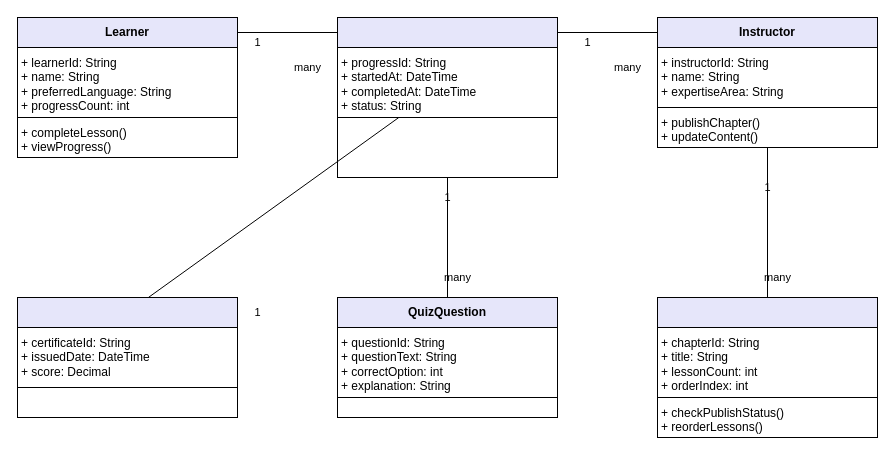
Image size: 895x455. Some labels were removed from this diagram. The centre of each missing label's shape, as x and y in pixels:
"+ generateCertificate()" goes at pixel 127 402.
"+ markComplete() + resetProgress() + checkEligibility()" goes at pixel 447 147.
"Certificate" goes at pixel 127 312.
"Chapter" goes at pixel 767 312.
"LessonProgress" goes at pixel 447 32.
